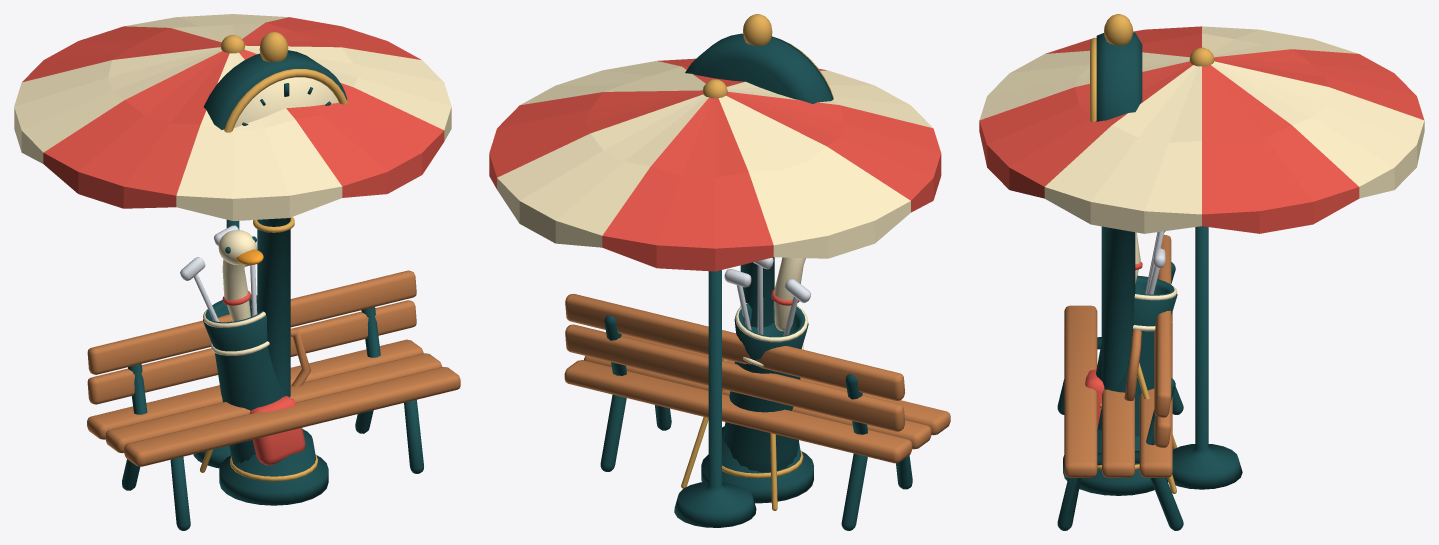
File: clubhouse.glb
3 views of the same model, side by side, from view 1: azimuth 30°, elevation 25°; view 2: azimuth 150°, elevation 25°; view 3: azimuth 270°, elevation 25° (orthographic). The views are drawn at different scales.
Parts seen in each view (by area): view 1: parasol_bench, tee_clock, goose_bag; view 2: parasol_bench, tee_clock, goose_bag; view 3: parasol_bench, tee_clock, goose_bag.
Part boxes in pixels (x1=…): parasol_bench: x1=14, y1=14, x2=460, y2=530; tee_clock: x1=203, y1=32, x2=347, y2=505; goose_bag: x1=180, y1=225, x2=311, y2=472; parasol_bench: x1=489, y1=58, x2=950, y2=530; tee_clock: x1=685, y1=14, x2=833, y2=503; goose_bag: x1=681, y1=257, x2=811, y2=510; parasol_bench: x1=979, y1=26, x2=1424, y2=530; tee_clock: x1=1063, y1=14, x2=1168, y2=495; goose_bag: x1=1085, y1=231, x2=1177, y2=493.
Size of the model in its own units: 2.24 by 2.55 by 2.24.
